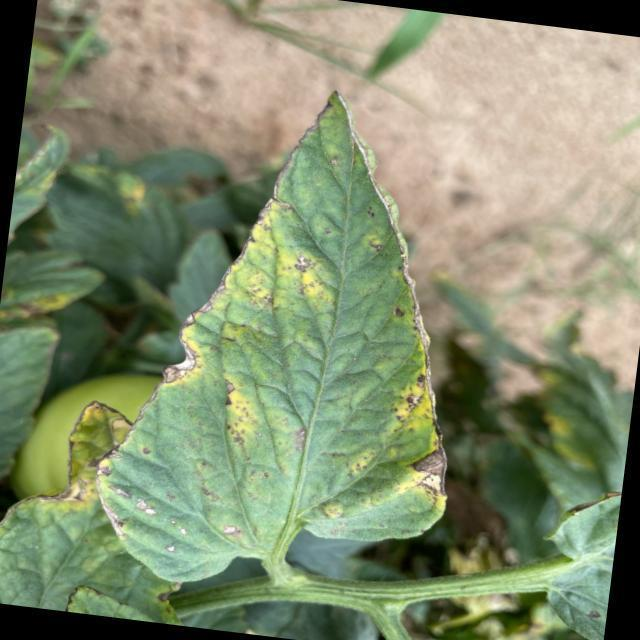Bacterial Spot: (102, 65, 484, 580)
